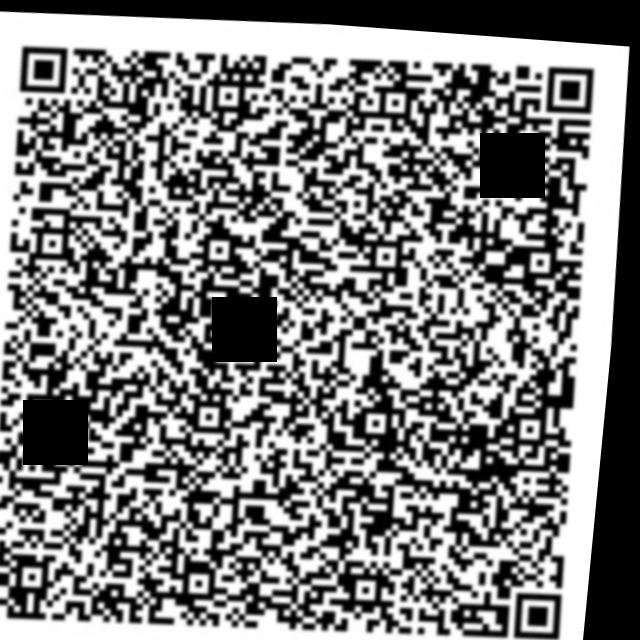QR_CODE: (0, 5, 635, 640)
